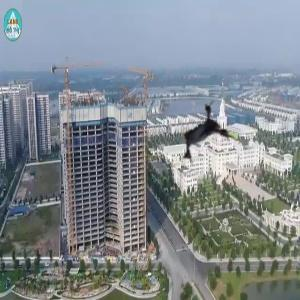drone: (167, 98, 248, 179)
